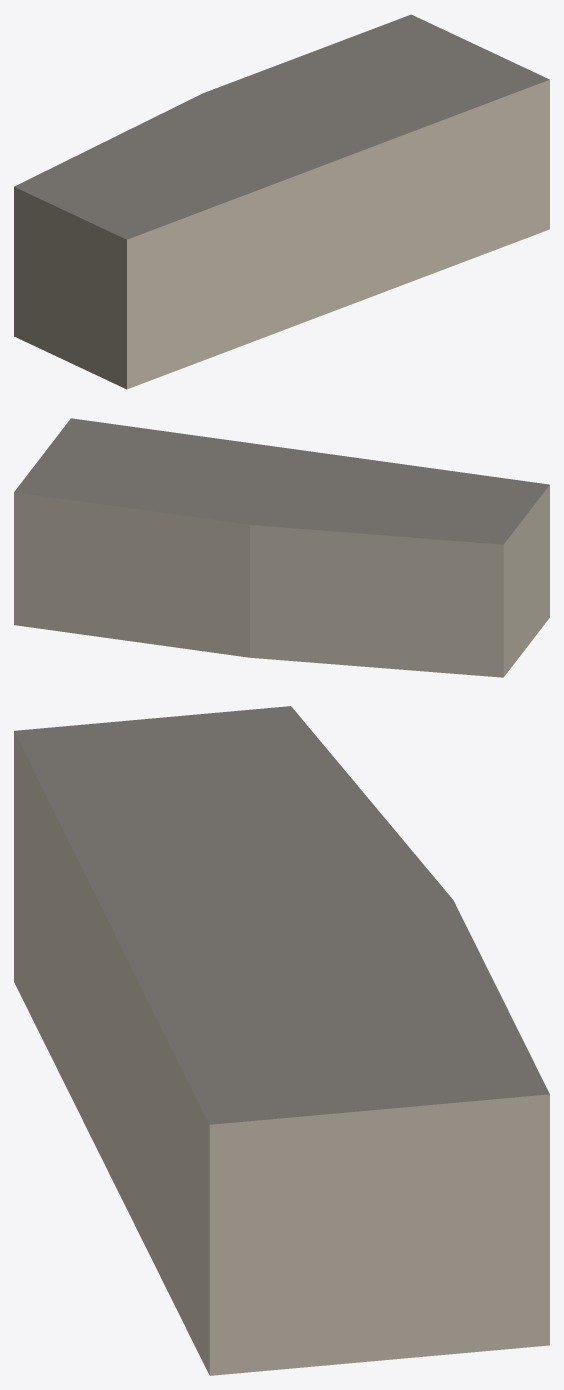
The picture shows the model from 3 angles, top to bottom: view 1: azimuth 30°, elevation 25°; view 2: azimuth 150°, elevation 25°; view 3: azimuth 270°, elevation 25°; orthographic projection. The views are drawn at different scales.
Visible parts, largest first — view 1: HP-w859457465; view 2: HP-w859457465; view 3: HP-w859457465.
Part boxes in pixels (x1,y1,x2,y2): HP-w859457465: (14,14,549,389); HP-w859457465: (14,418,549,677); HP-w859457465: (14,706,549,1375).
Bounding box in the file's own units: 64.38 × 18 × 34.83.
